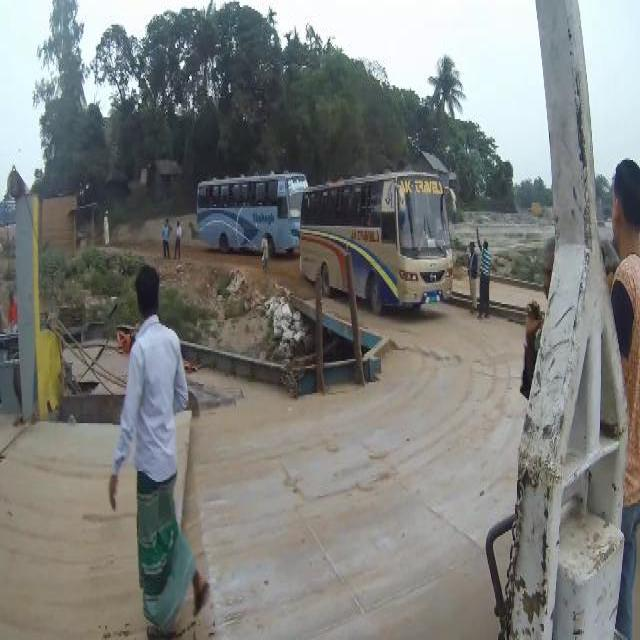bus: (300, 173, 456, 314), (196, 172, 298, 255)
